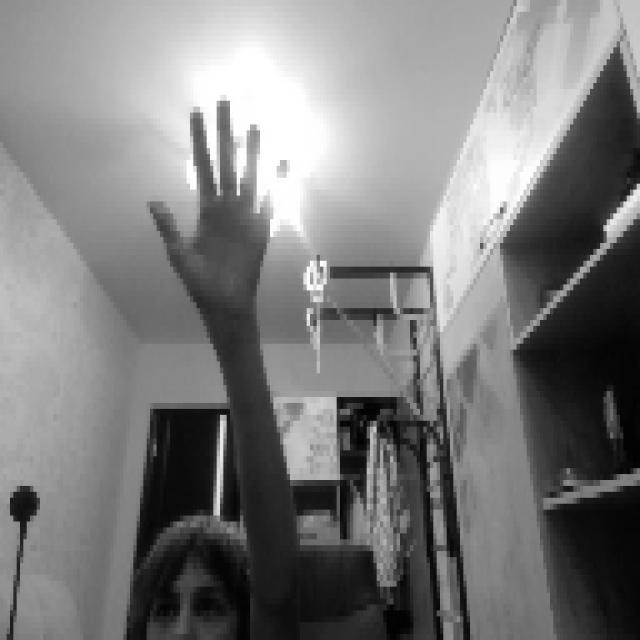hand: (143, 89, 287, 326)
